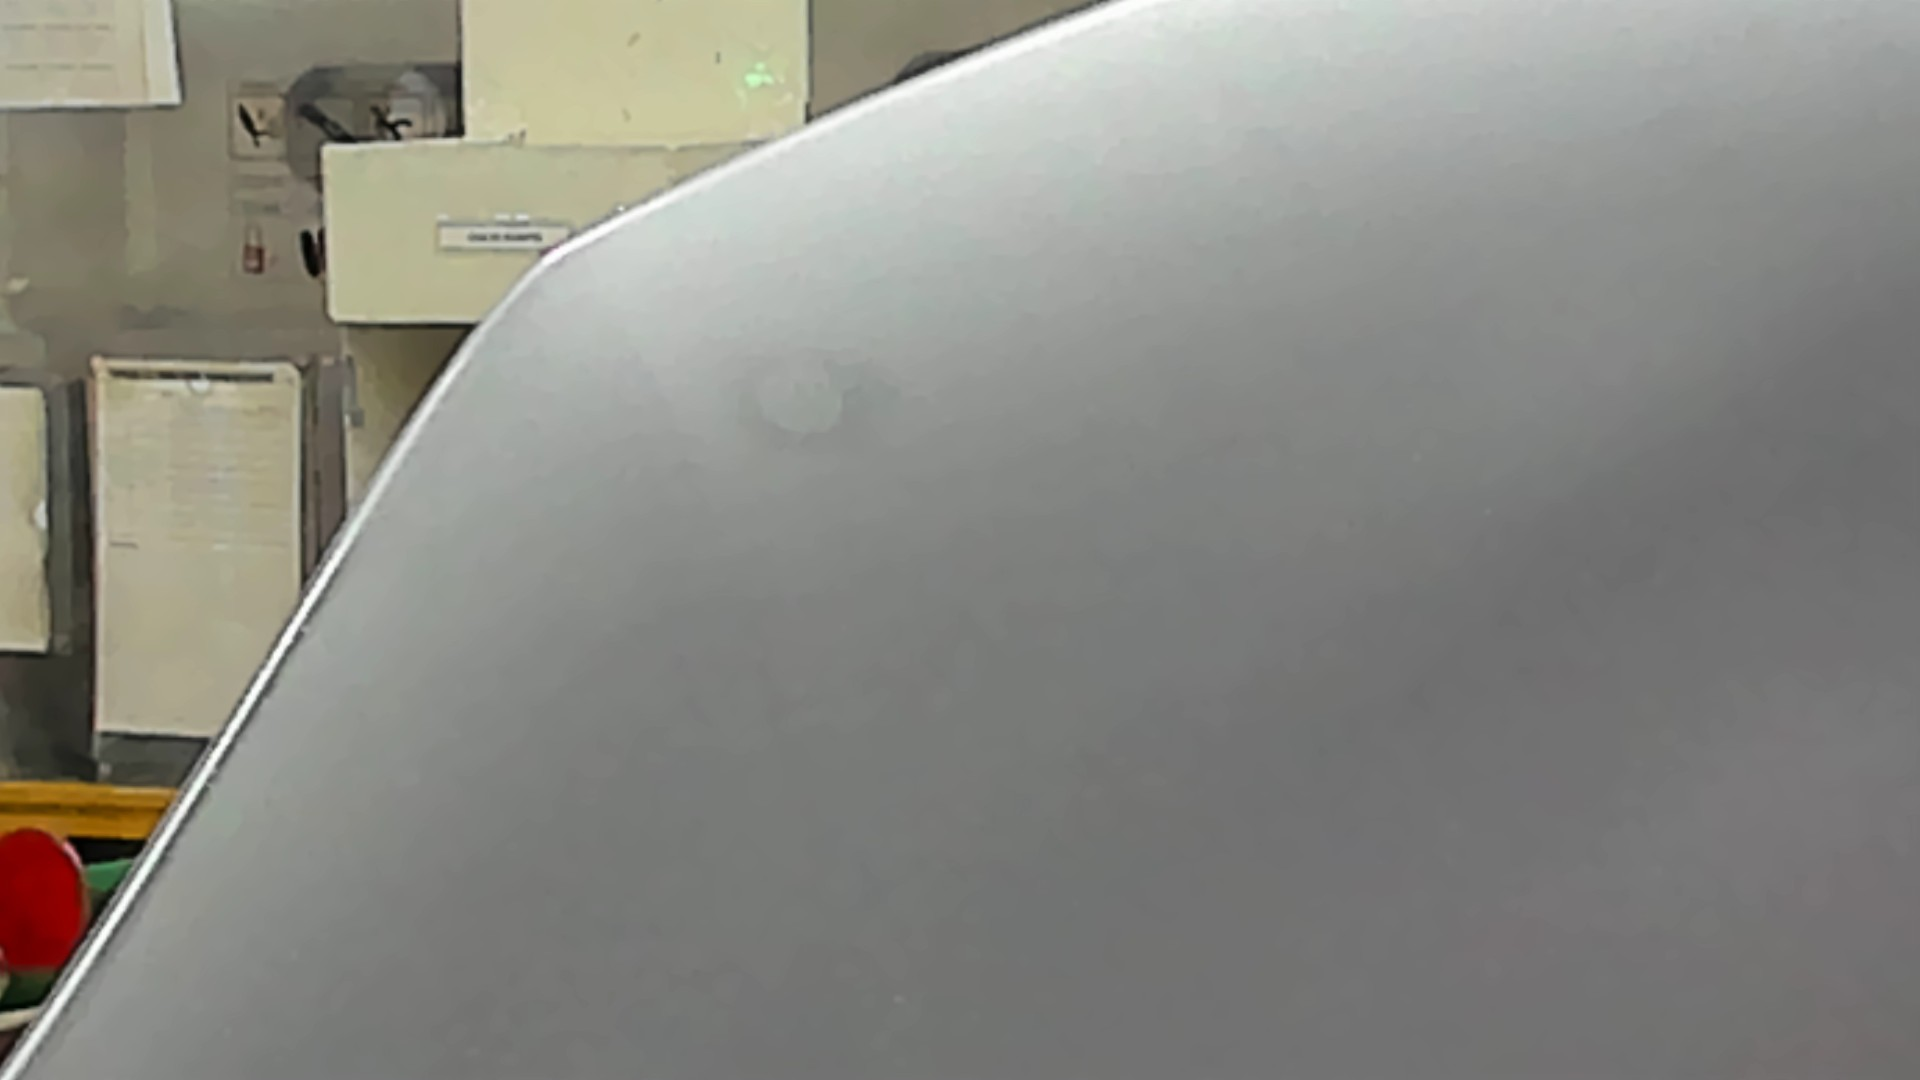capo: (737, 175, 1920, 1080)
